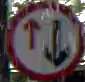Two way: (4, 1, 84, 79)
